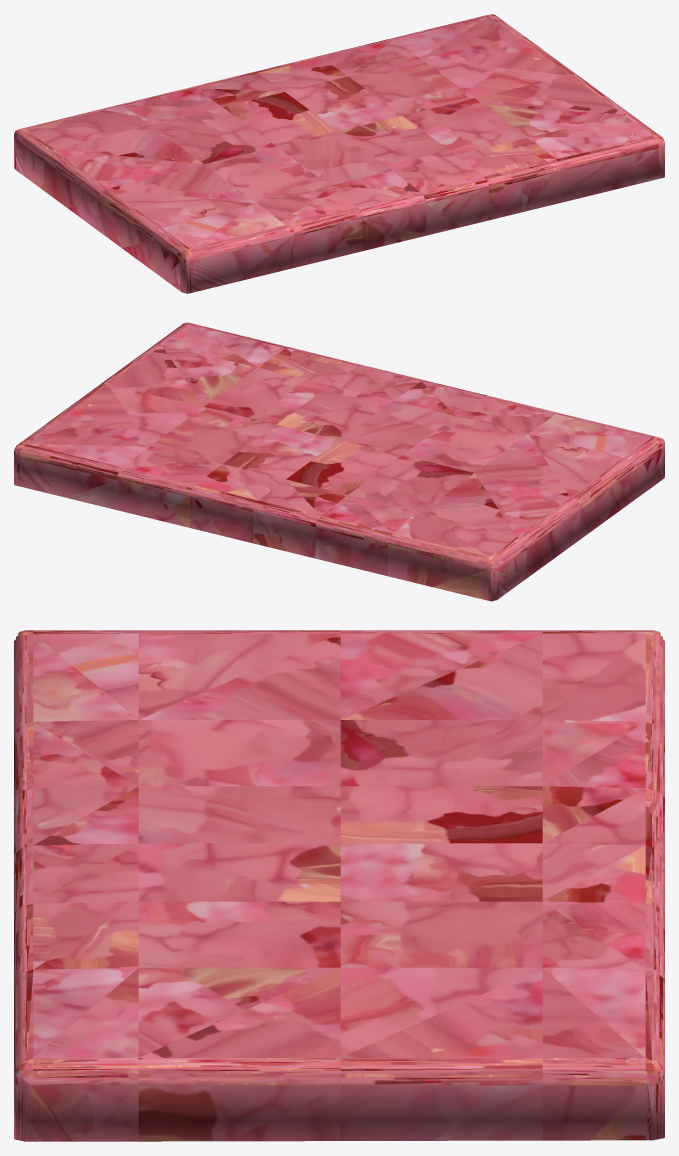
Rendered from Vessel2.fbx.
The picture shows the model from 3 angles, top to bottom: view 1: azimuth 30°, elevation 25°; view 2: azimuth 150°, elevation 25°; view 3: azimuth 270°, elevation 25°; orthographic projection. The views are drawn at different scales.
Parts seen in each view (by area): view 1: Mesh_0; view 2: Mesh_0; view 3: Mesh_0.
Part boxes in pixels (box(x1,y1,x2,y2)): Mesh_0: box(14, 14, 664, 293); Mesh_0: box(14, 322, 664, 601); Mesh_0: box(14, 630, 664, 1141).
Size of the model in its own units: 1.91 by 0.1545 by 1.19.
